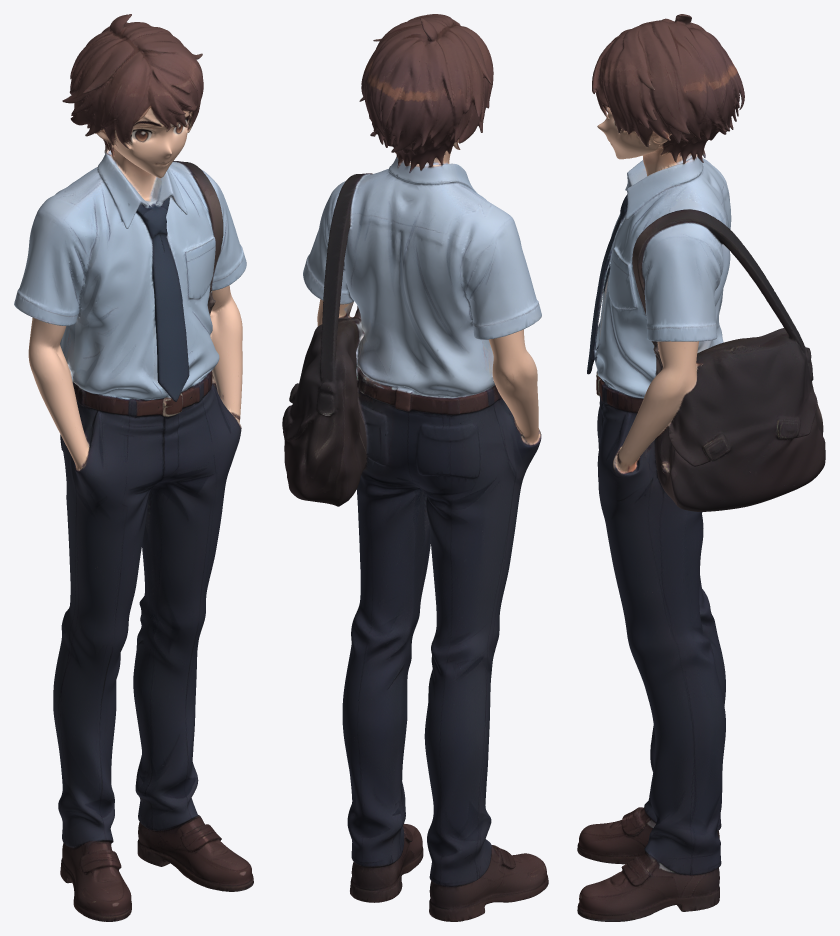
Rendered from Tom_Meshy_AI_Student_in_Uniform_0430045605_texture.glb.
3 views of the same model, side by side, from view 1: azimuth 30°, elevation 25°; view 2: azimuth 150°, elevation 25°; view 3: azimuth 270°, elevation 25° (orthographic). The views are drawn at different scales.
Bounding box in the file's own units: 0.5189 × 1.9 × 0.4931.
Materials: 1 (1 with a texture image).
